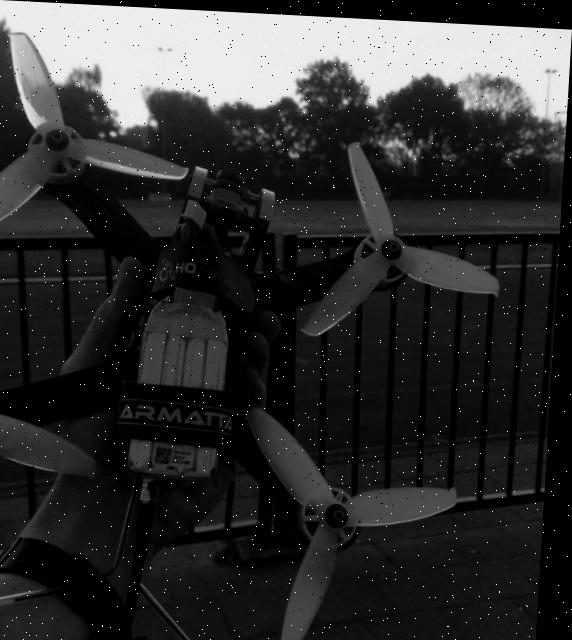drone: (0, 4, 572, 640)
